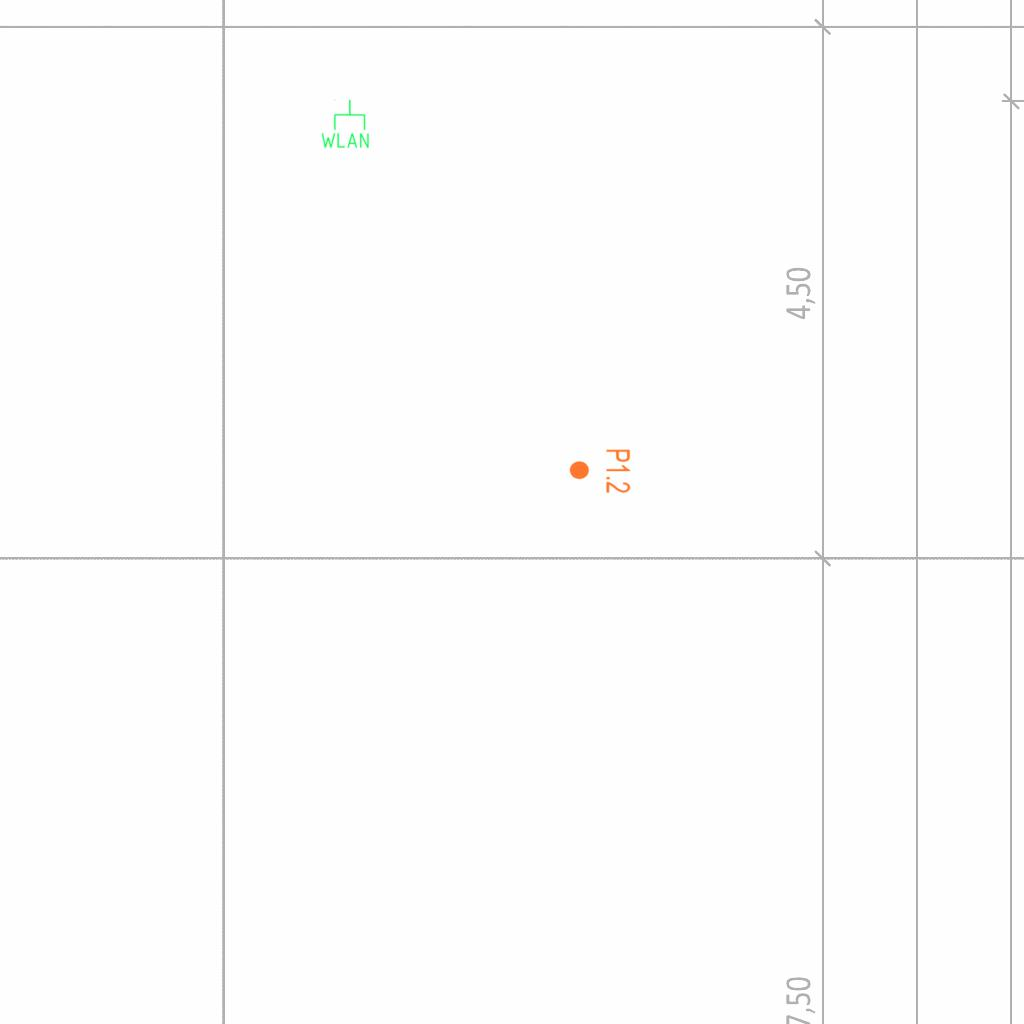Downlight_LED_Einbauleuchten_Flur: (568, 448, 632, 494)
WLAN: (319, 98, 371, 150)
